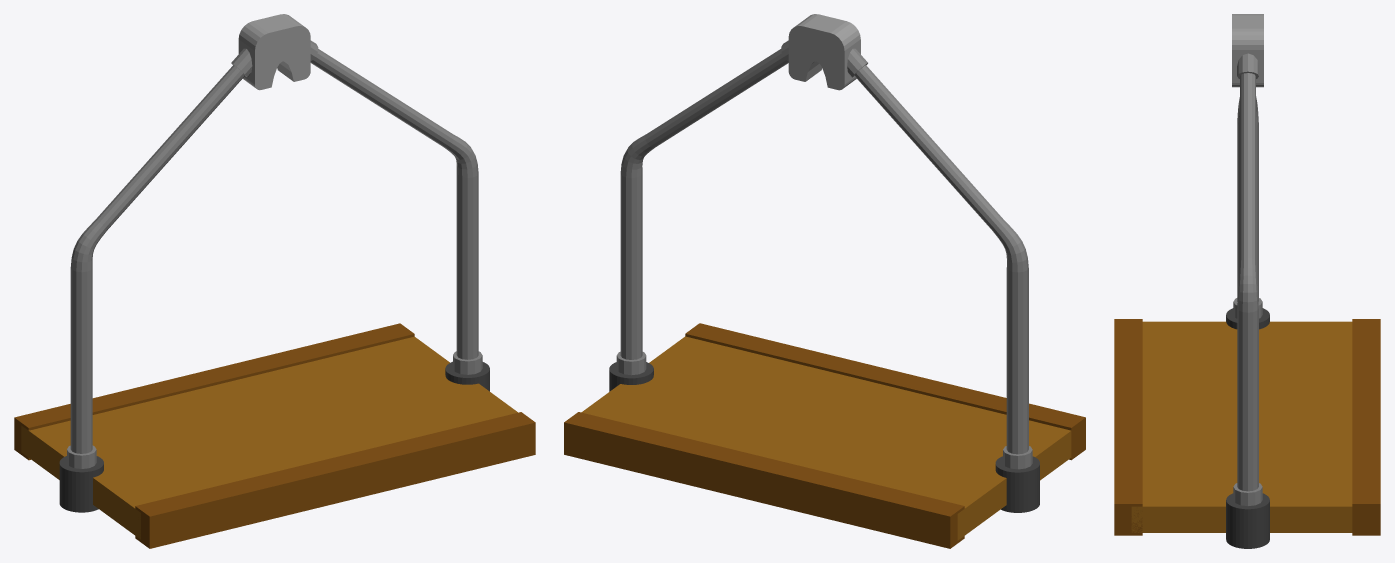
The model's file is Stage_Ele1.fbx.
The picture shows the model from 3 angles, left to right: view 1: azimuth 30°, elevation 25°; view 2: azimuth 150°, elevation 25°; view 3: azimuth 270°, elevation 25°; orthographic projection.
Parts seen in each view (by area): view 1: Cube.646; view 2: Cube.646; view 3: Cube.646.
Part boxes in pixels (<box>): Cube.646: <box>14,14,535,548</box>; Cube.646: <box>564,14,1085,548</box>; Cube.646: <box>1114,14,1380,548</box>.
Bounding box in the file's own units: 660 × 642 × 365.
